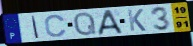3: (150, 5, 172, 32)
A: (97, 9, 125, 37)
C: (44, 13, 68, 38)
I: (31, 15, 40, 39)
K: (126, 8, 148, 32)
Q: (73, 11, 98, 37)
